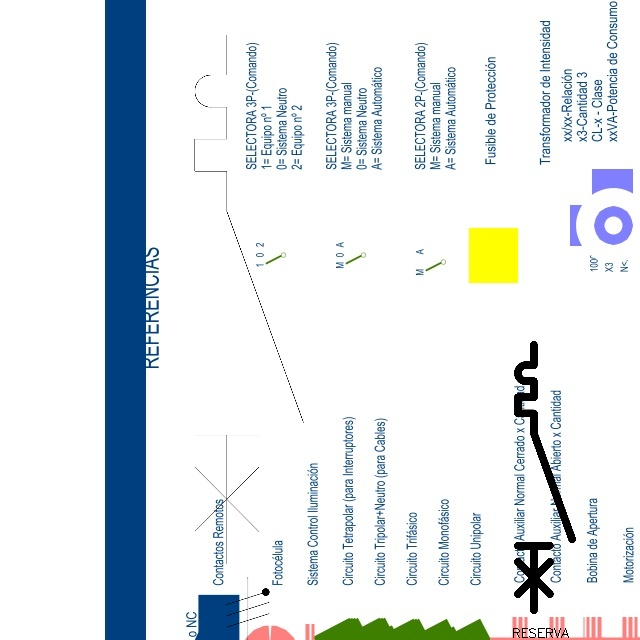interruptor_termomagnetico: (181, 21, 317, 577), (511, 338, 579, 617)
